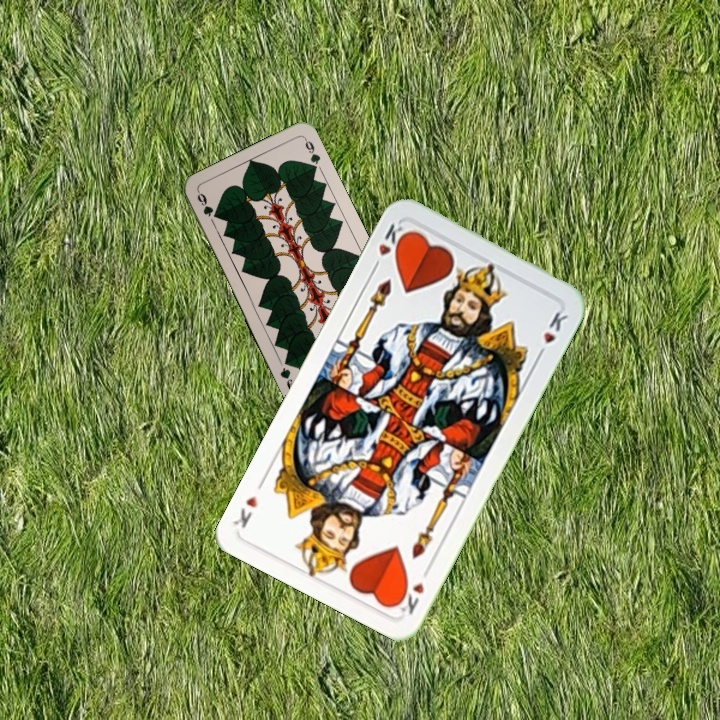G9: (193, 188, 216, 219)
HK: (392, 562, 434, 617), (368, 220, 410, 274)
